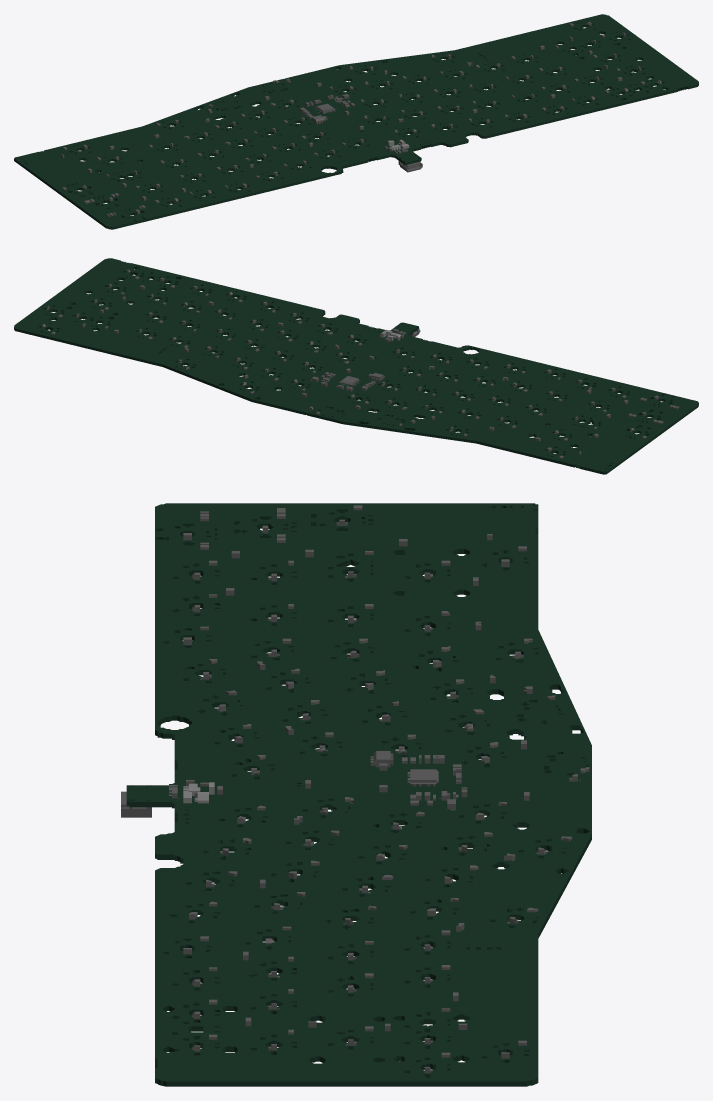
File: adelais.glb
The picture shows the model from 3 angles, top to bottom: view 1: azimuth 30°, elevation 25°; view 2: azimuth 150°, elevation 25°; view 3: azimuth 270°, elevation 25°; orthographic projection. The views are drawn at different scales.
Parts seen in each view (by area): view 1: adelais; view 2: adelais; view 3: adelais.
Part boxes in pixels (box(x1,y1,x2,y2)): adelais: box(14, 14, 698, 229); adelais: box(14, 258, 698, 474); adelais: box(121, 503, 591, 1086).
Size of the model in its own units: 337 by 7 by 116.
